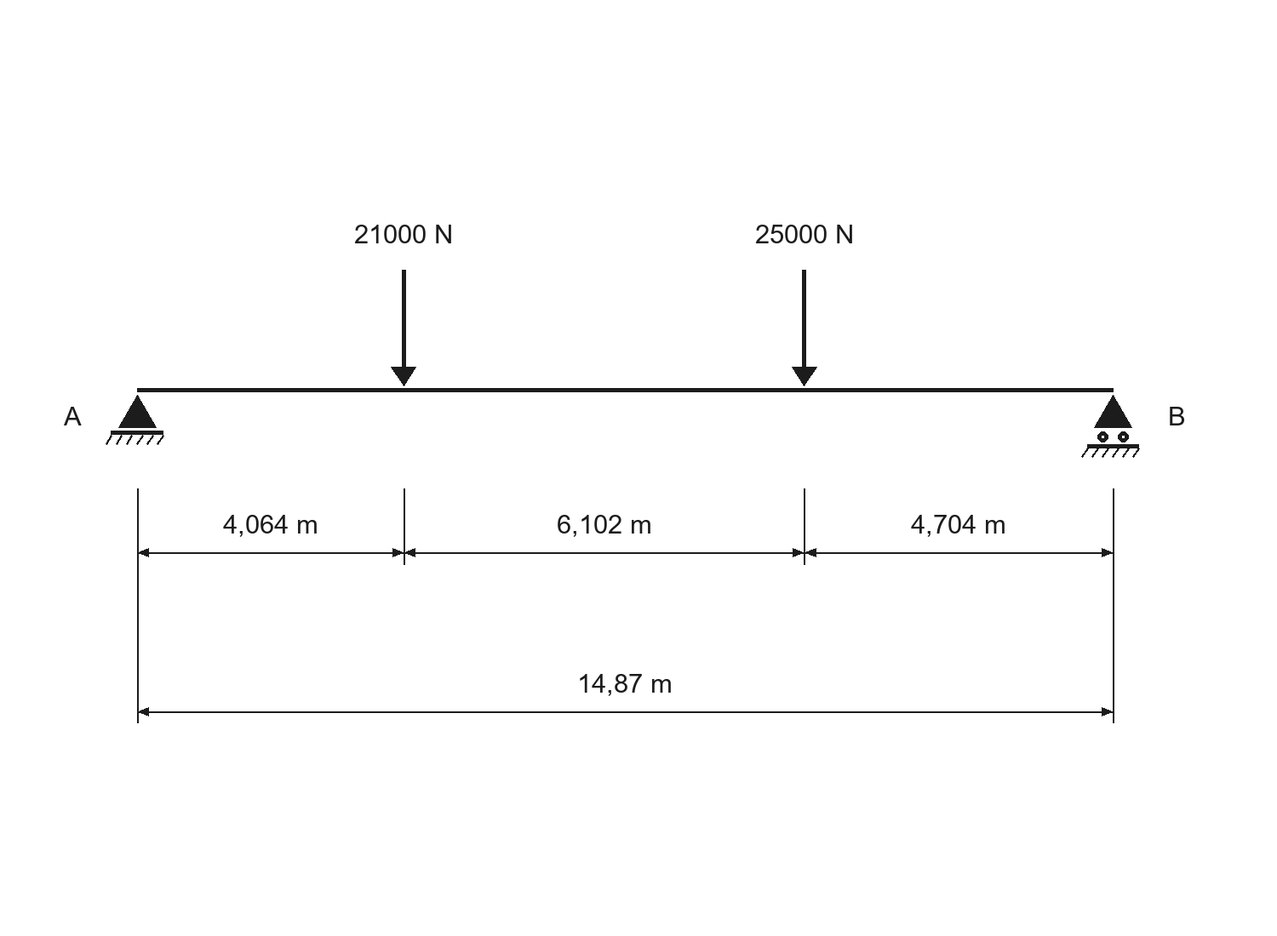pin_support: (106, 395, 164, 445)
point_load: (391, 270, 416, 386), (792, 270, 817, 386)
roller_support: (1081, 395, 1140, 458)
